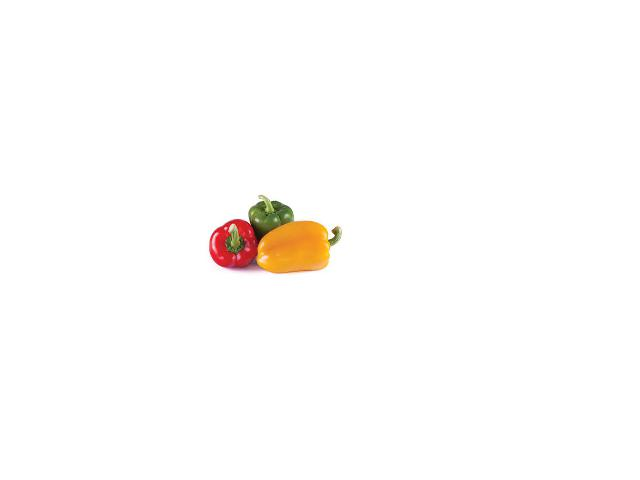bell_pepper: (244, 194, 298, 241)
